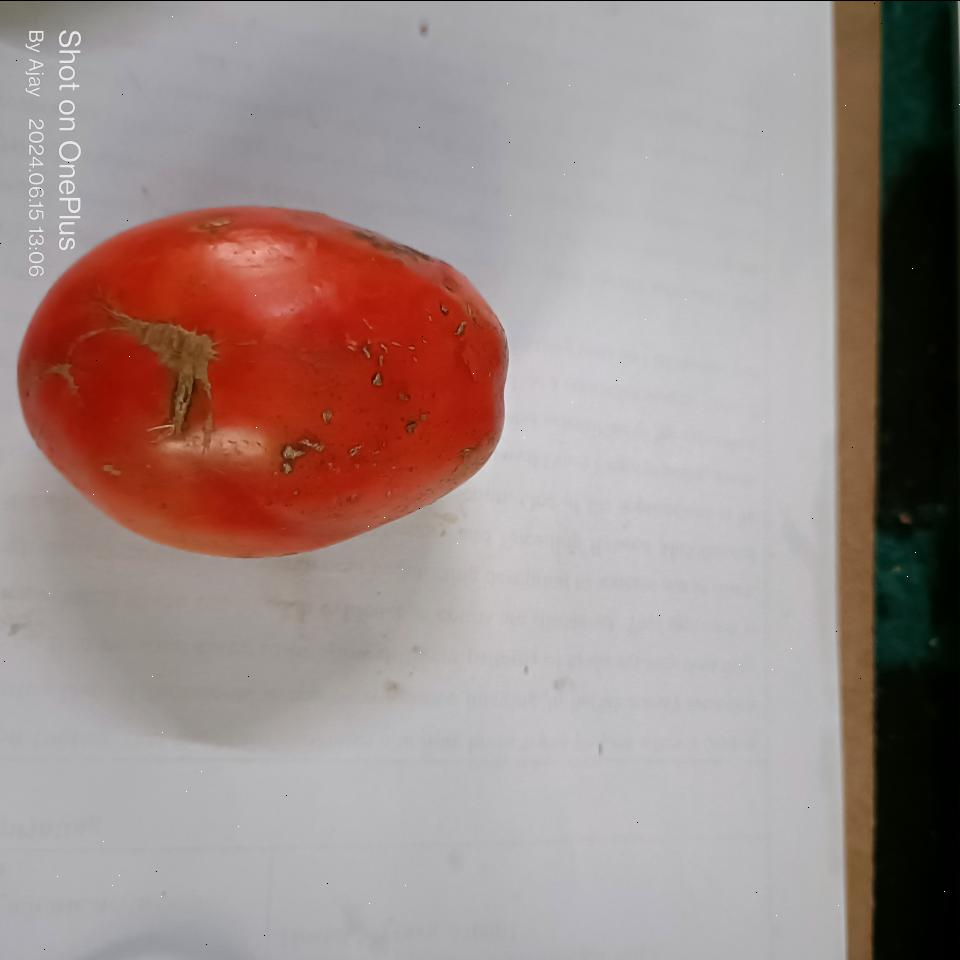Bacterial_Spot: (109, 298, 227, 448), (271, 432, 324, 469)
